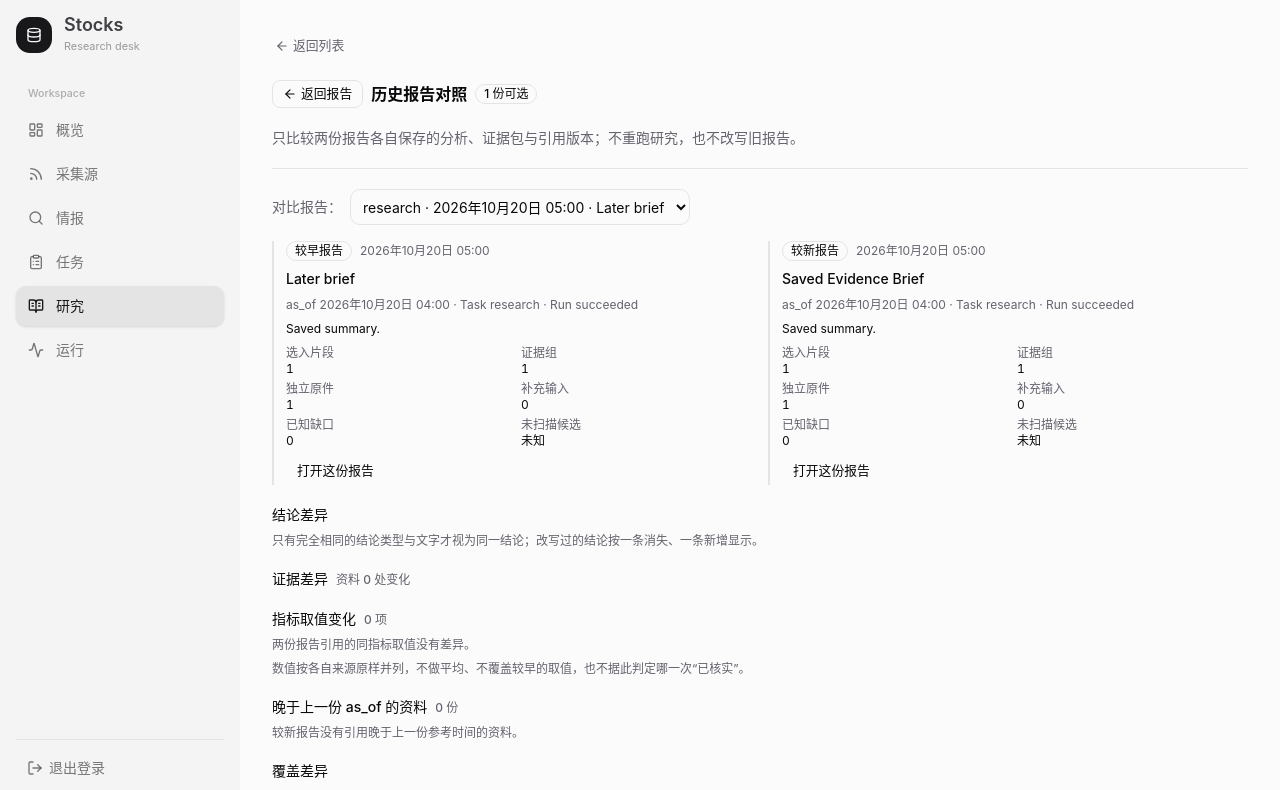
Test: ResearchDetailPage › navigates detail-to-detail when selecting a compared report
The width and height of the screenshot is (1280, 790).
Check: the heading "历史报告对照" is shown, box [371,82,467,106]
Click the button "打开这份报告" below "Later brief" at x=335, y=471, box [286,457,385,485]
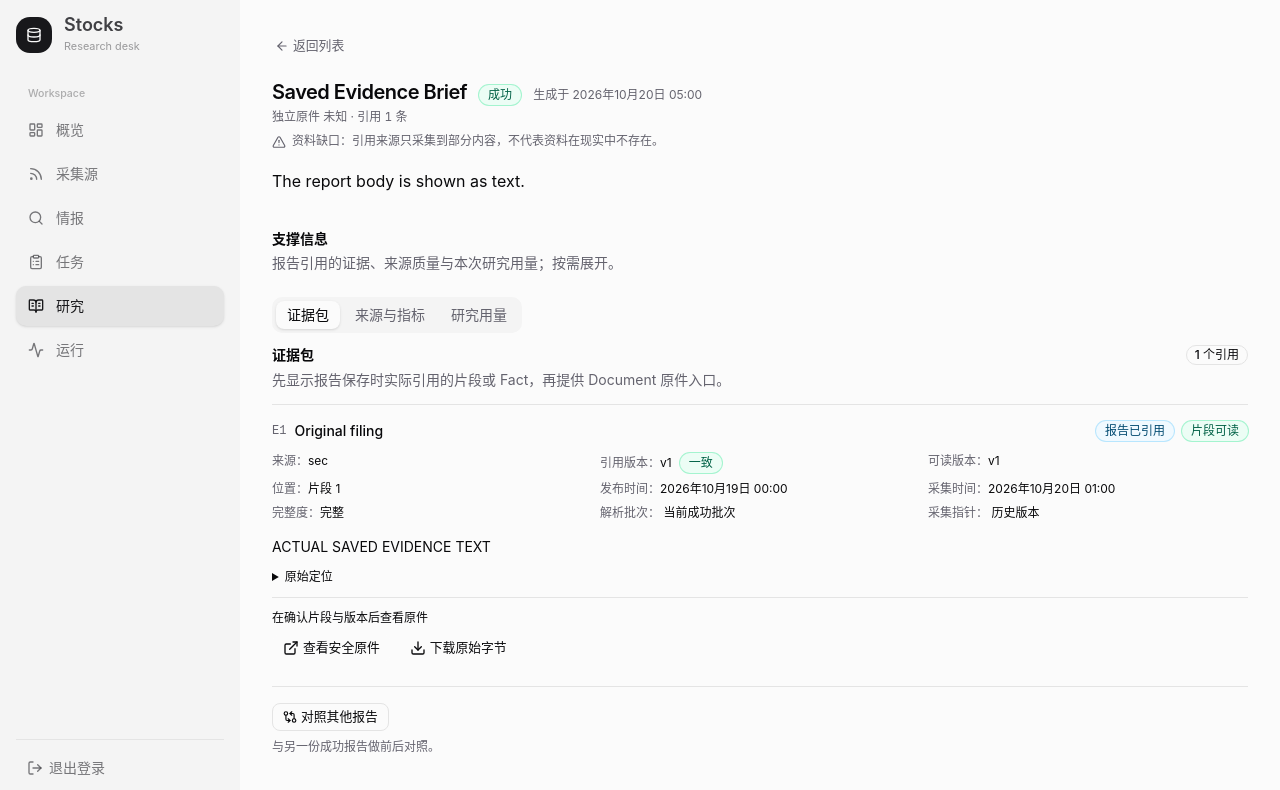
Check: the text "The report body is shown as text." is shown, box [272,171,525,191]
